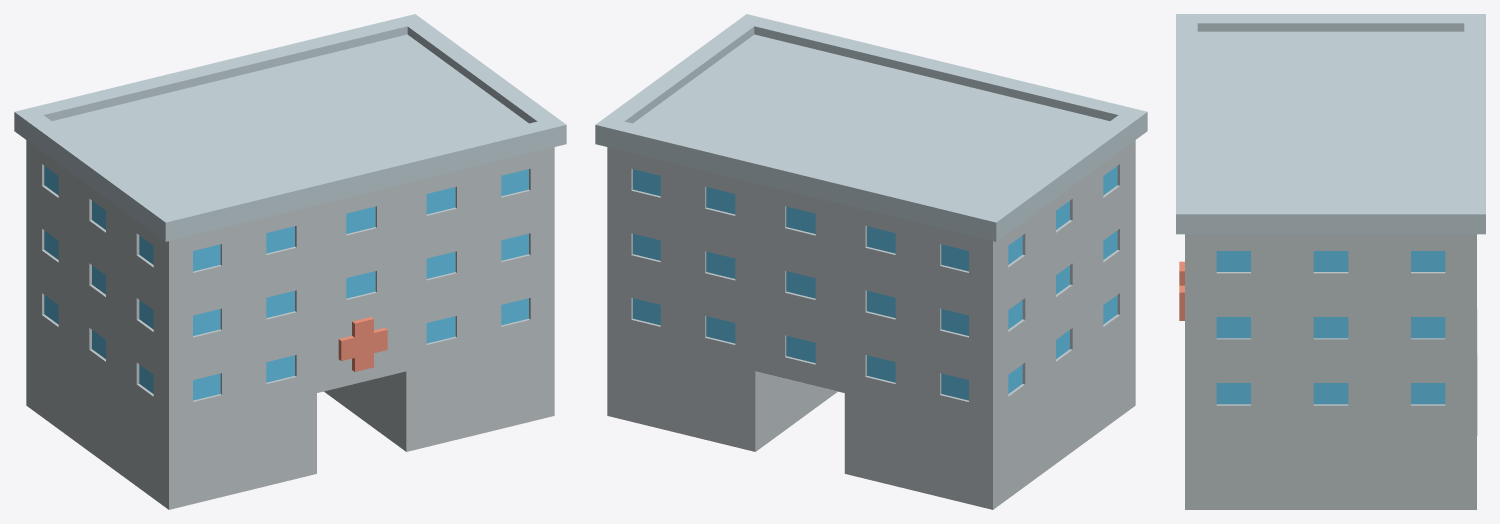
File: Hospital-01.fbx
3 renders of one model, left to right at view 1: azimuth 30°, elevation 25°; view 2: azimuth 150°, elevation 25°; view 3: azimuth 270°, elevation 25°, orthographic. The views are drawn at different scales.
Visible parts, largest first — view 1: MAIN_1, Cross; view 2: MAIN_1; view 3: MAIN_1, Cross.
Part boxes in pixels (<box>): MAIN_1: <box>14,14,566,509</box>; Cross: <box>338,317,387,371</box>; MAIN_1: <box>595,14,1147,509</box>; MAIN_1: <box>1176,14,1485,509</box>; Cross: <box>1179,261,1184,320</box>.
Size of the model in its own units: 2600 by 1812 by 1700.
